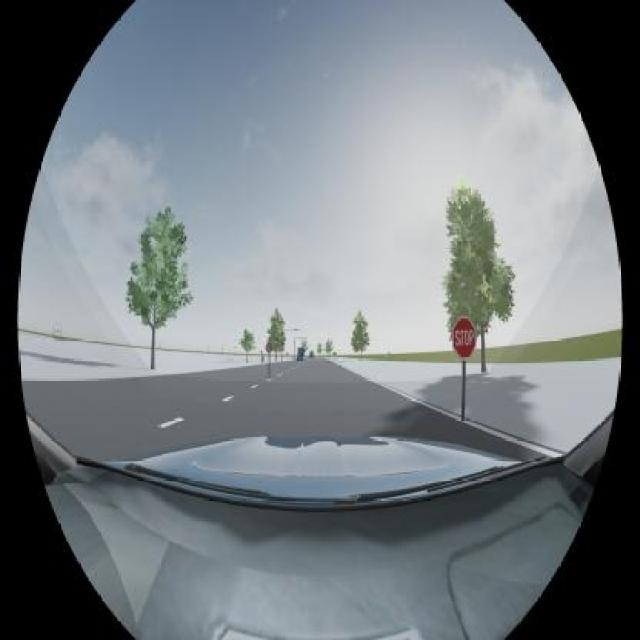forb_speed_over_20: (266, 342, 272, 353)
